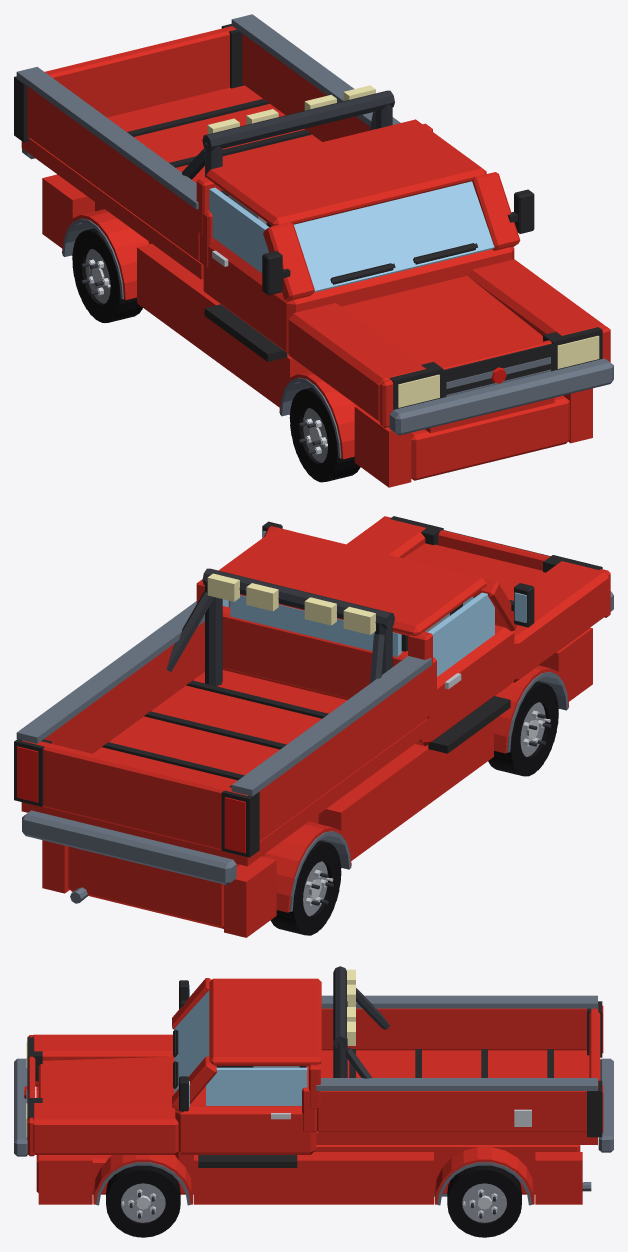
Rendered from Pickup.glb.
3 views of the same model, one above another, from view 1: azimuth 30°, elevation 25°; view 2: azimuth 150°, elevation 25°; view 3: azimuth 270°, elevation 25° (orthographic). The views are drawn at different scales.
Visible parts, largest first — view 1: Body, Windscreen, Hood, WheelFR, WheelRR, LampL, LampR; view 2: Body, WheelFR, WheelRR, Hood; view 3: Body, Hood, WheelFL, WheelRL, Windscreen, RotorRL, RotorFL.
Part boxes in pixels (bbox=[...]): Body: bbox=[14, 14, 613, 487]; Windscreen: bbox=[294, 181, 494, 292]; Hood: bbox=[341, 276, 542, 366]; WheelFR: bbox=[289, 387, 360, 482]; WheelRR: bbox=[72, 228, 142, 322]; LampL: bbox=[557, 335, 599, 368]; LampR: bbox=[398, 374, 439, 407]; Body: bbox=[14, 516, 613, 937]; WheelFR: bbox=[488, 681, 558, 776]; WheelRR: bbox=[270, 840, 341, 935]; Hood: bbox=[403, 543, 545, 599]; Body: bbox=[14, 966, 613, 1205]; Hood: bbox=[38, 1056, 174, 1102]; WheelFL: bbox=[106, 1165, 180, 1237]; WheelRL: bbox=[447, 1165, 521, 1237]; Windscreen: bbox=[174, 990, 209, 1093]; RotorRL: bbox=[470, 1189, 498, 1218]; RotorFL: bbox=[129, 1189, 157, 1218].
Size of the model in its own units: 2.2 by 1.95 by 5.45.
